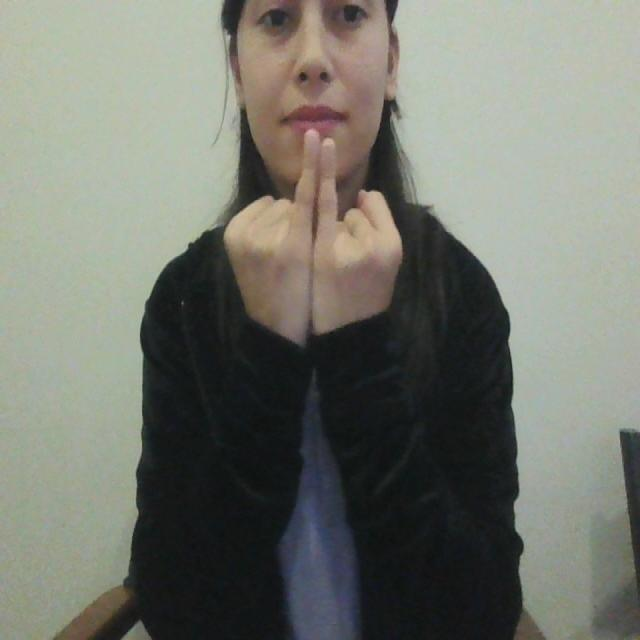Kardes: (219, 124, 408, 352)
